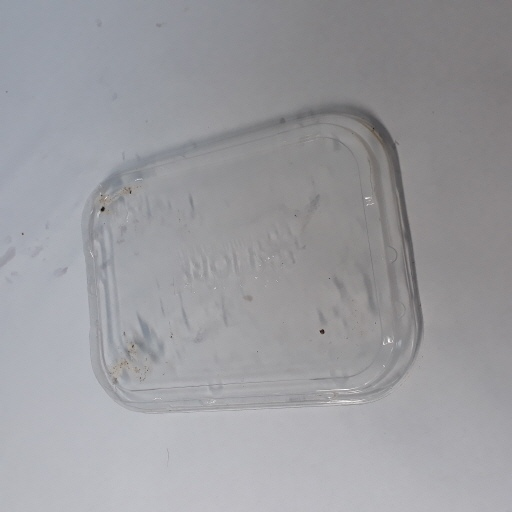Plastic_4: (84, 107, 425, 405)
